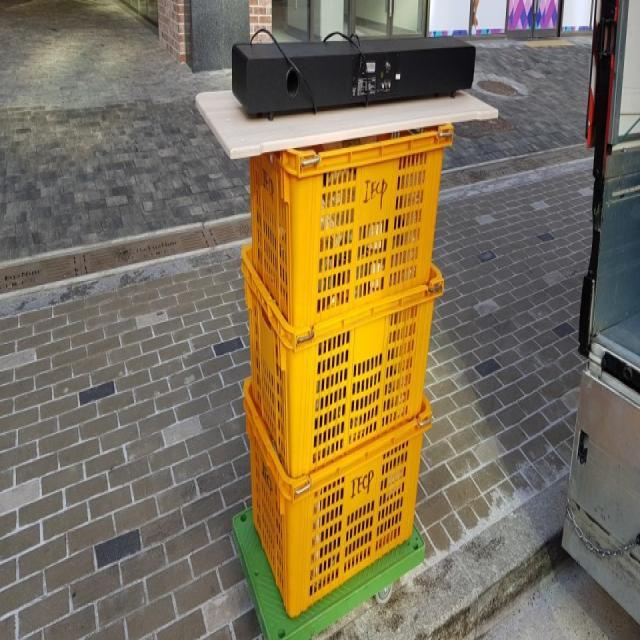basket: (220, 243, 446, 489), (221, 378, 434, 629), (247, 123, 463, 328)
